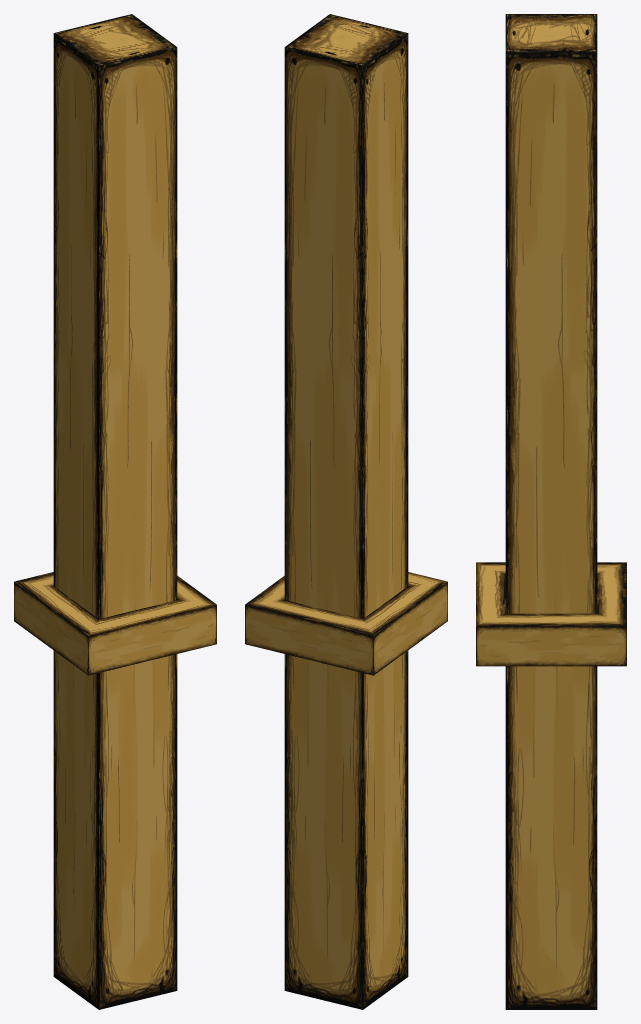
The model's file is plank2.fbx.
The picture shows the model from 3 angles, left to right: view 1: azimuth 30°, elevation 25°; view 2: azimuth 150°, elevation 25°; view 3: azimuth 270°, elevation 25°; orthographic projection.
Visible parts, largest first — view 1: Cube, Cube.001; view 2: Cube, Cube.001; view 3: Cube, Cube.001.
Boxes of the visible parts, bbox=[...] form: Cube: bbox=[53, 14, 177, 1009]; Cube.001: bbox=[14, 572, 216, 675]; Cube: bbox=[284, 14, 408, 1009]; Cube.001: bbox=[245, 572, 447, 675]; Cube: bbox=[505, 14, 597, 1009]; Cube.001: bbox=[476, 562, 626, 666].
Size of the model in its own units: 28.53 by 200 by 28.53.
